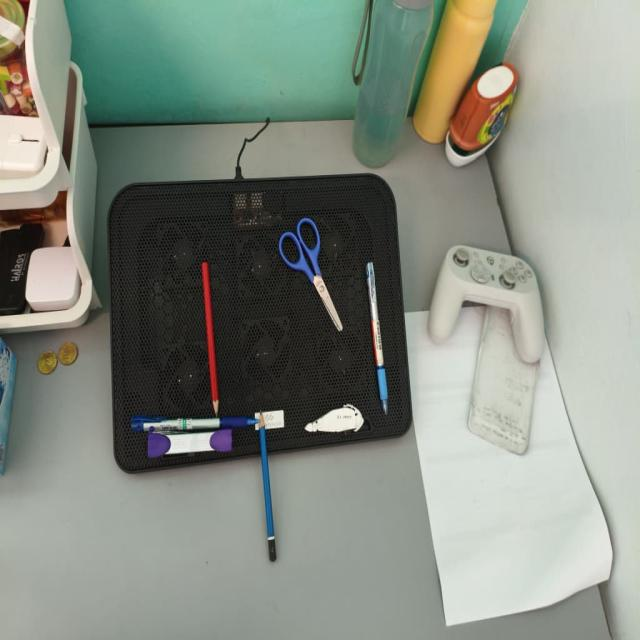pen: (366, 262, 388, 414), (131, 416, 258, 432)
pencil: (202, 262, 219, 416), (258, 412, 274, 561)
scissor: (279, 218, 342, 330)
stapler: (148, 429, 232, 458)
